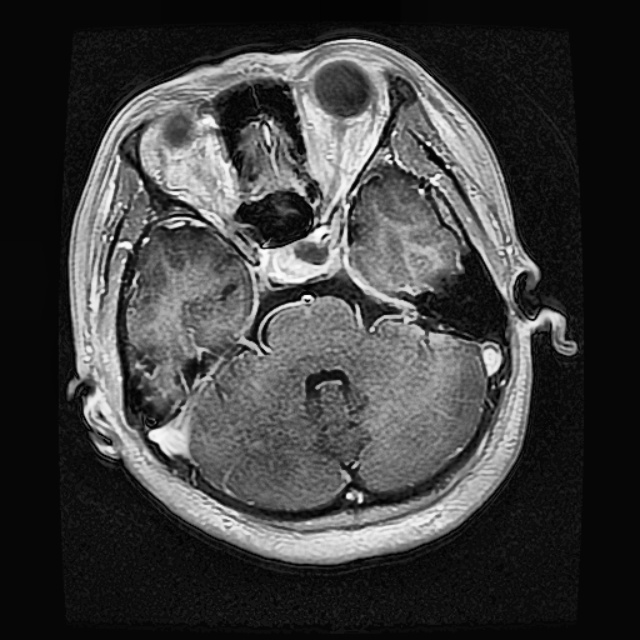Pituitary: (262, 227, 338, 284)
